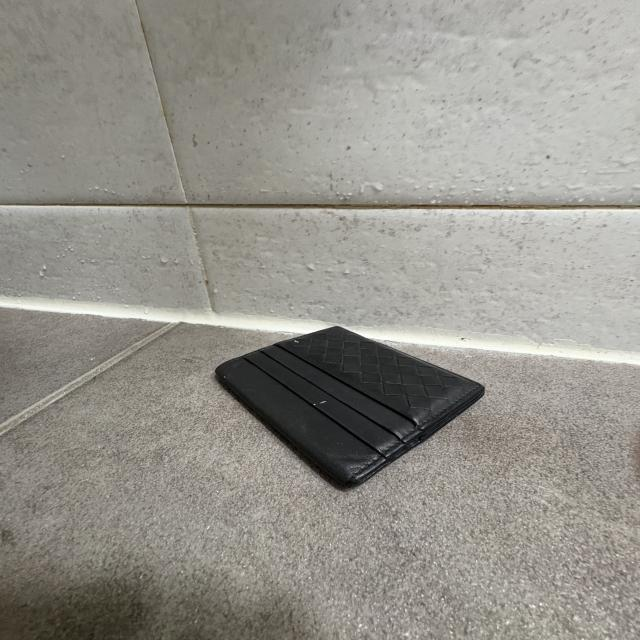wallet: (216, 324, 486, 491)
